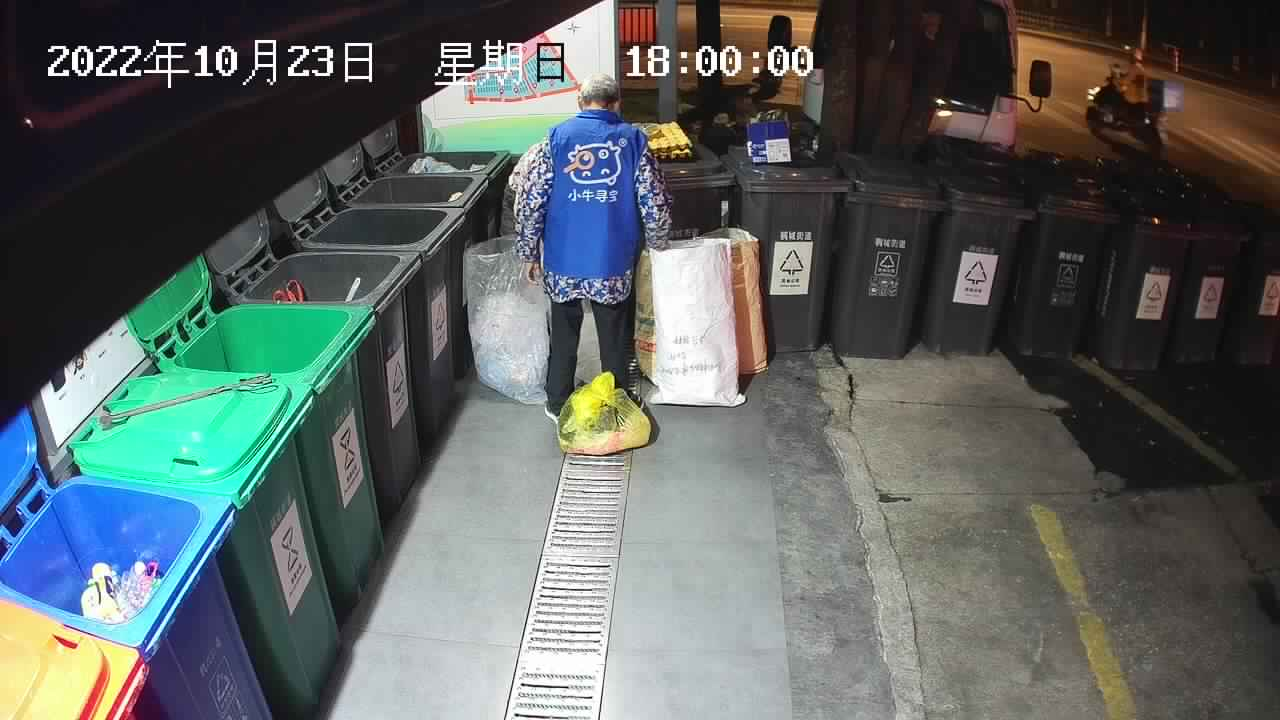garbage-bag: (630, 225, 771, 409), (459, 233, 551, 408), (554, 369, 653, 458)
worker: (512, 69, 672, 425)
